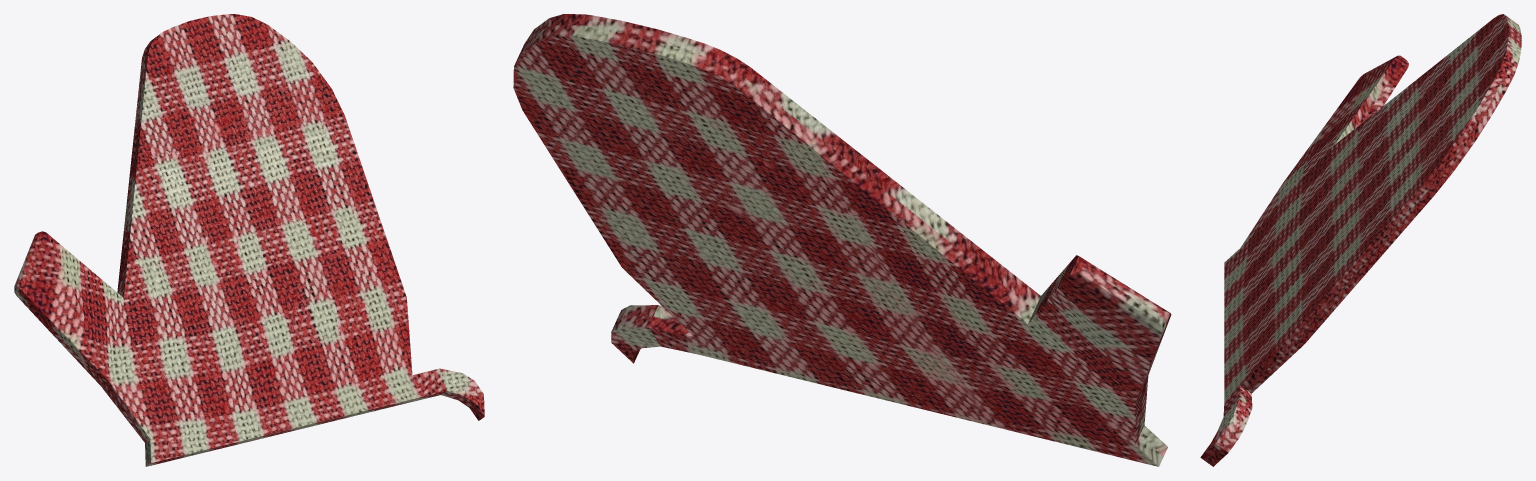
File: gloves.fbx
3 views of the same model, side by side, from view 1: azimuth 30°, elevation 25°; view 2: azimuth 150°, elevation 25°; view 3: azimuth 270°, elevation 25° (orthographic). The views are drawn at different scales.
Parts seen in each view (by area): view 1: Plane.002; view 2: Plane.002; view 3: Plane.002.
Boxes of the visible parts, x1,y1,x2,y2 form: Plane.002: (14,14,484,466); Plane.002: (513,14,1171,466); Plane.002: (1200,14,1521,466).
Size of the model in its own units: 88.52 by 72 by 58.09.
